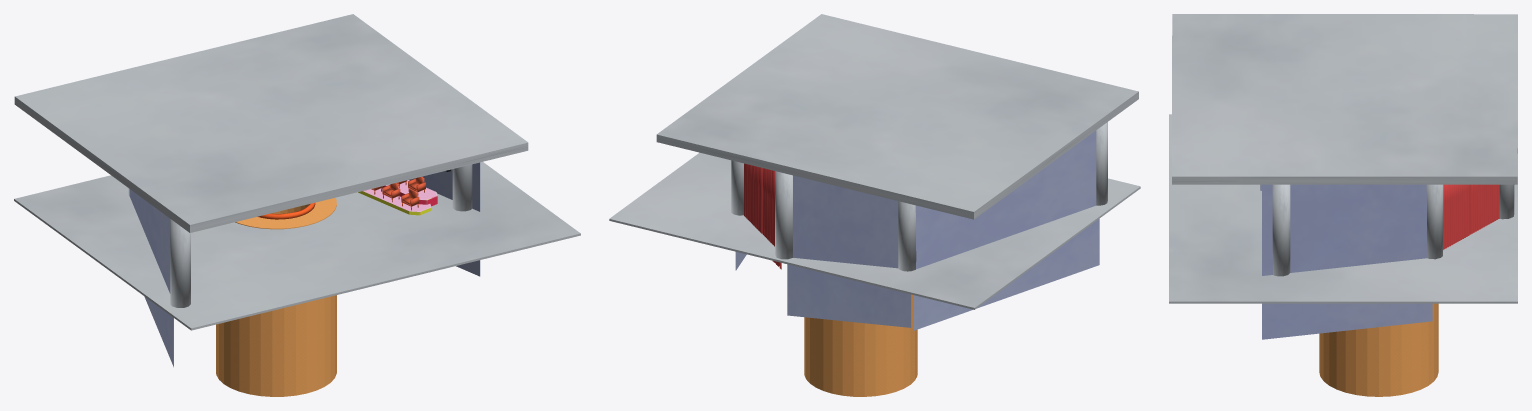
The model's file is Studio.obj.
The picture shows the model from 3 angles, left to right: view 1: azimuth 30°, elevation 25°; view 2: azimuth 150°, elevation 25°; view 3: azimuth 270°, elevation 25°; orthographic projection. The views are drawn at different scales.
Visible parts, largest first — view 1: 円柱.035, 円柱.033, 立方体.001, 立方体.107, 立方体.005; view 2: 円柱.035, 立方体.001, 円柱.033, 円柱.031, 円柱.027; view 3: 円柱.035, 立方体.001, 円柱.033, 円柱.031, 円柱.027.
Part boxes in pixels (x1,y1,x2,y2): 円柱.035: (14,14,580,330); 円柱.033: (216,198,336,396); 立方体.001: (129,162,480,367); 立方体.107: (358,180,437,215); 立方体.005: (371,176,425,210); 円柱.035: (609,14,1140,309); 立方体.001: (735,130,1099,330); 円柱.033: (804,294,917,396); 円柱.031: (744,163,762,233); 円柱.027: (762,168,781,269); 円柱.035: (1169,14,1517,303); 立方体.001: (1260,184,1432,339); 円柱.033: (1319,303,1438,396); 円柱.031: (1443,184,1469,249); 円柱.027: (1469,184,1499,234).
Size of the model in its own units: 220 by 146 by 173.
13 materials, 13 textured.
